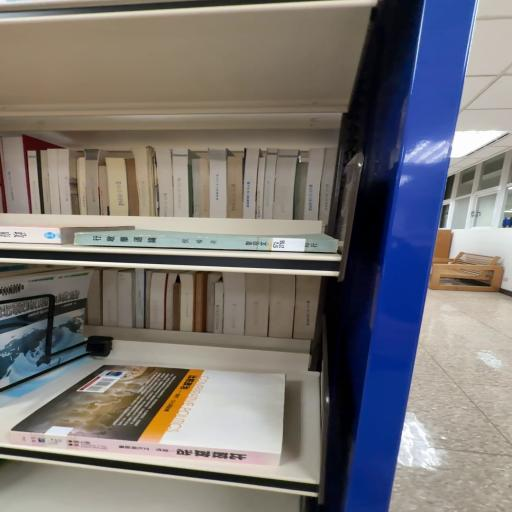flat: (10, 366, 286, 466), (75, 231, 339, 254)
